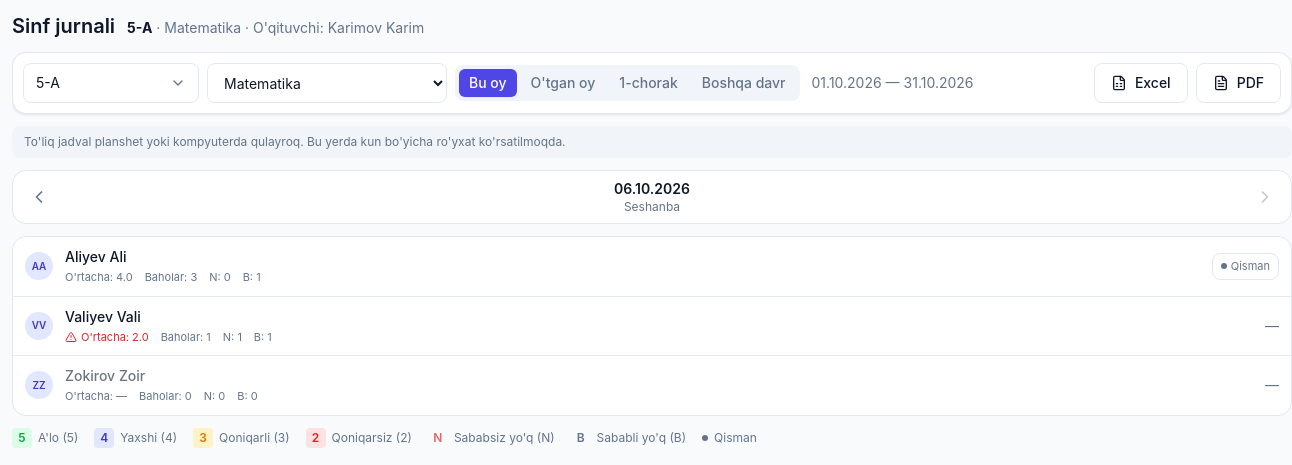
Test: JournalView: mobil "kun bo`yicha" rejim › jadval o`rniga ro`yxat: bugungi kun, chiplar, xulosa, oldingi/keyingi kun
The width and height of the screenshot is (1292, 465).
Check: the text with test id "day-label" reads "06.10.2026", box [614, 180, 690, 197]
Check: the element with test id "chip-partial" is shown, box [1212, 253, 1279, 280]
Click the button with test id "day-prev".
click(39, 197)  # box [21, 179, 57, 215]
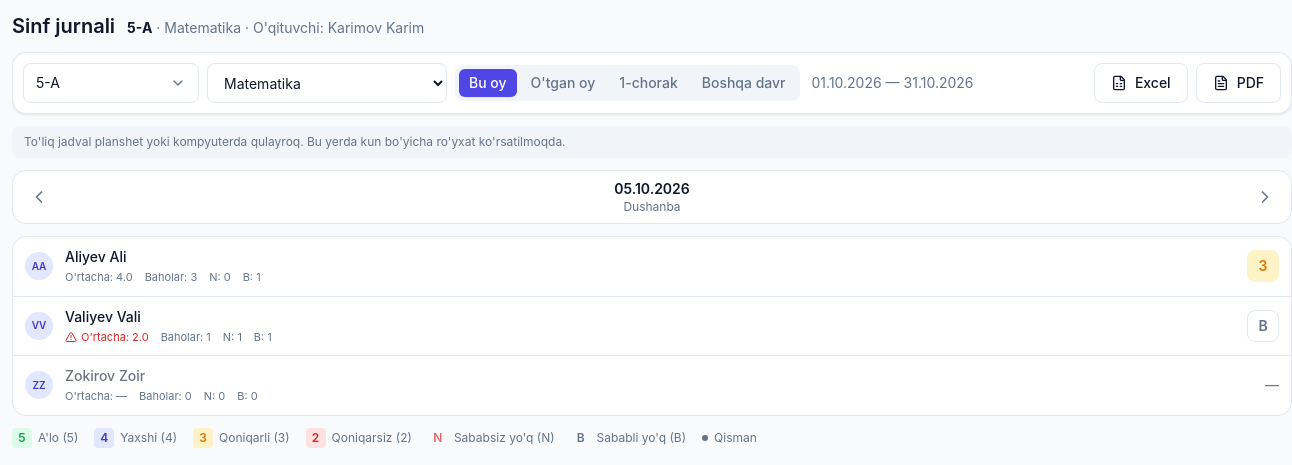
Check: the text with test id "day-label" reads "05.10.2026", box [614, 180, 690, 197]
Check: the text with test id "chip-grade" reads "3", box [1258, 257, 1267, 274]
Check: the text with test id "chip-absence" reads "B", box [1258, 317, 1268, 334]
Click the button with test id "day-prev".
click(39, 197)  # box [21, 179, 57, 215]
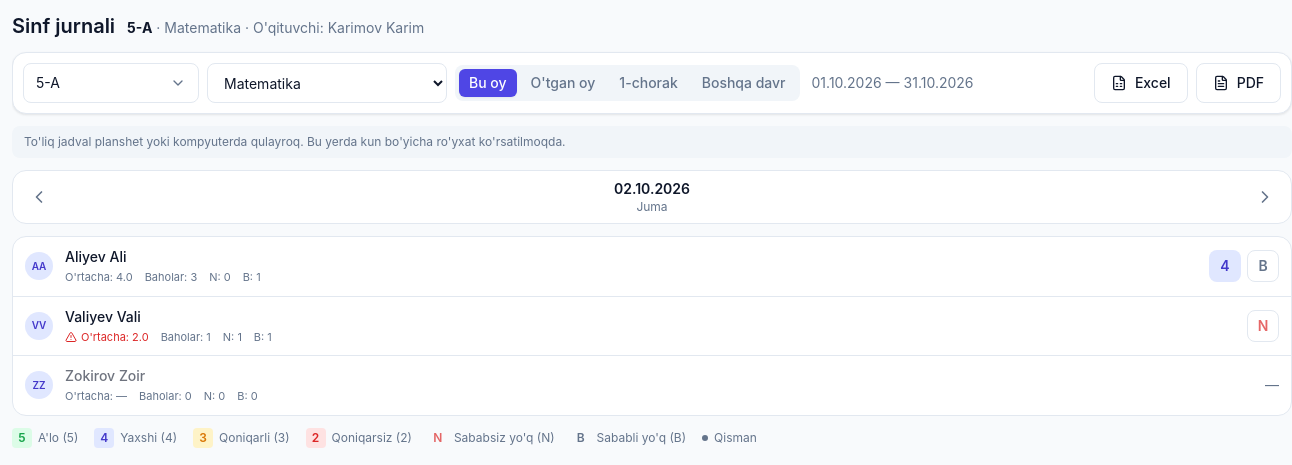
Click the button with test id "day-prev".
click(39, 197)  # box [21, 179, 57, 215]
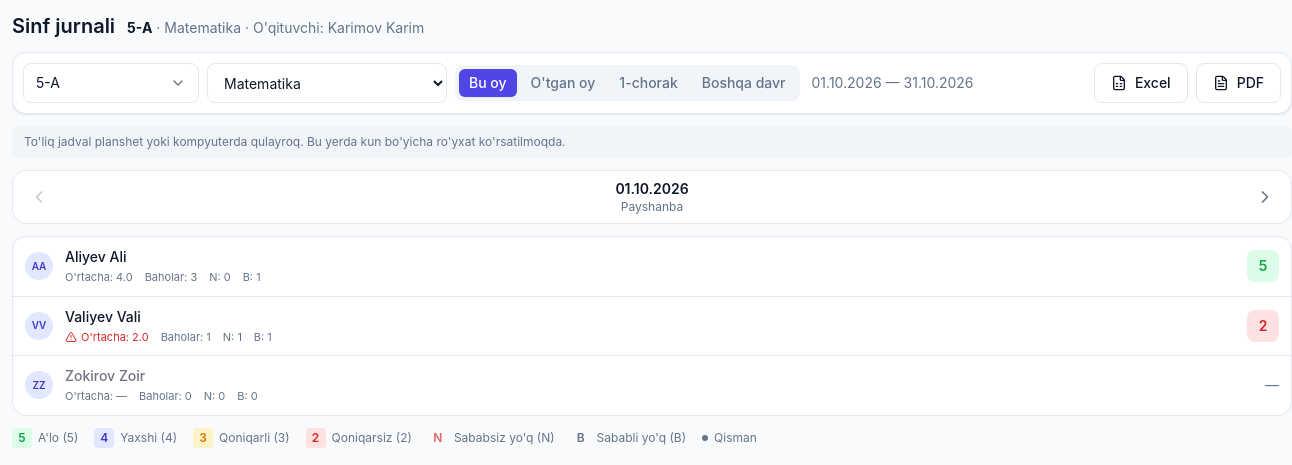
Check: the text "planshet yoki kompyuterda" is shown, box [24, 134, 566, 149]
Check: the text with test id "day-label" reads "01.10.2026", box [615, 180, 689, 197]
